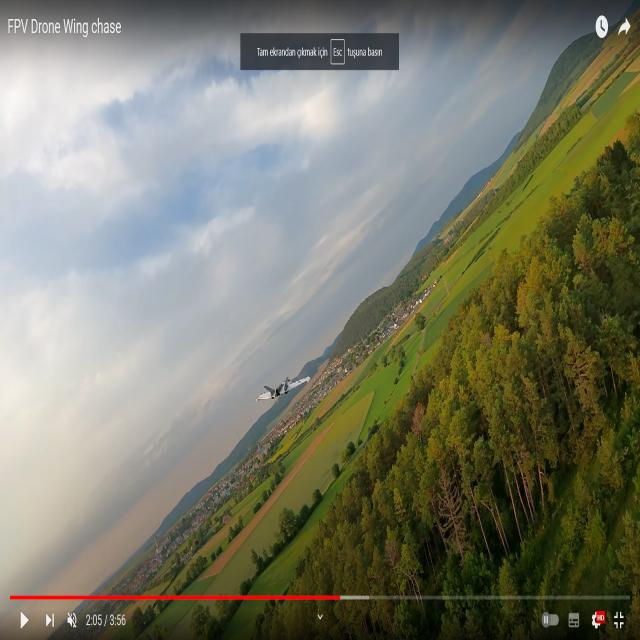iha: (260, 374, 312, 398)
